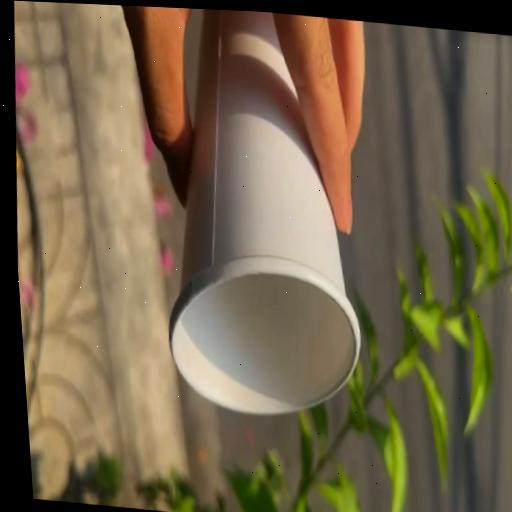Ly_giay: (168, 9, 360, 412)
